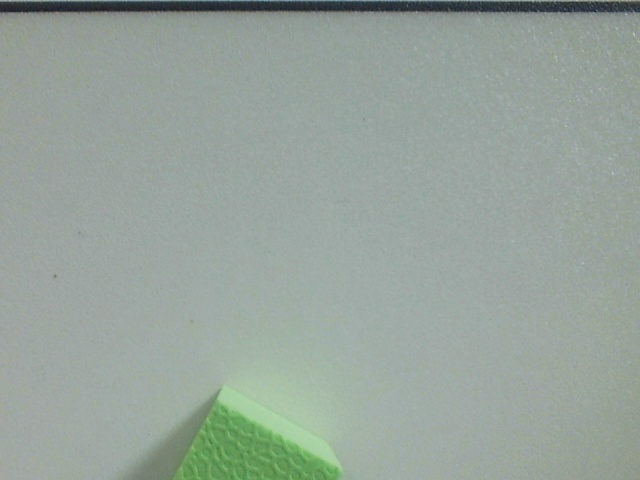greencube: (169, 382, 355, 480)
